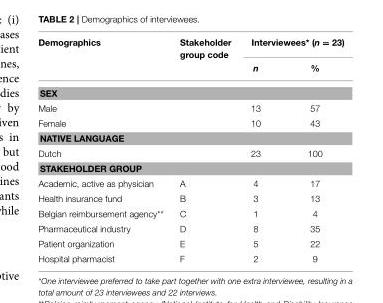table: (37, 37, 343, 263)
table column: (37, 37, 170, 263), (170, 37, 240, 263), (283, 37, 343, 263), (240, 37, 283, 263)
table column header: (37, 37, 343, 80)
table projected row header: (37, 80, 343, 100), (37, 130, 343, 145), (37, 160, 343, 175)
table row: (37, 37, 343, 61), (37, 80, 343, 100), (37, 61, 343, 80), (37, 190, 343, 206), (37, 100, 343, 115), (37, 115, 343, 130), (37, 130, 343, 145), (37, 145, 343, 160), (37, 160, 343, 175), (37, 175, 343, 190), (37, 206, 343, 221), (37, 221, 343, 236), (37, 236, 343, 251), (37, 251, 343, 263)
table spanning cell: (37, 37, 170, 80), (170, 37, 240, 80), (240, 37, 343, 61)
